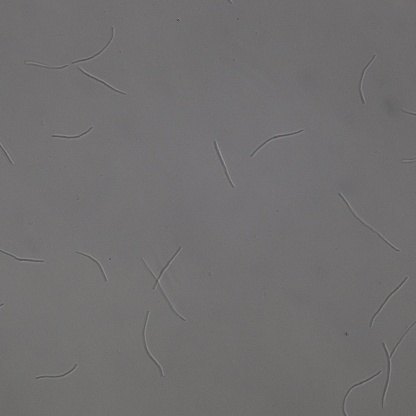Sensitive: (339, 193, 397, 252), (141, 246, 185, 319), (380, 321, 416, 406), (369, 278, 407, 326), (341, 372, 380, 416), (139, 310, 163, 376), (74, 26, 115, 62), (251, 128, 302, 156), (78, 67, 125, 96), (76, 250, 107, 281), (358, 56, 375, 104), (215, 142, 233, 185), (36, 363, 79, 381), (1, 250, 44, 263), (52, 126, 92, 139)
